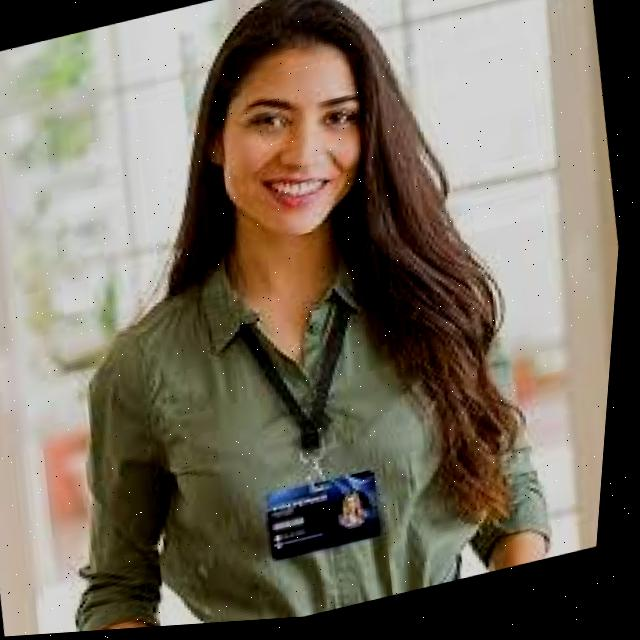id_card: (223, 281, 419, 574)
